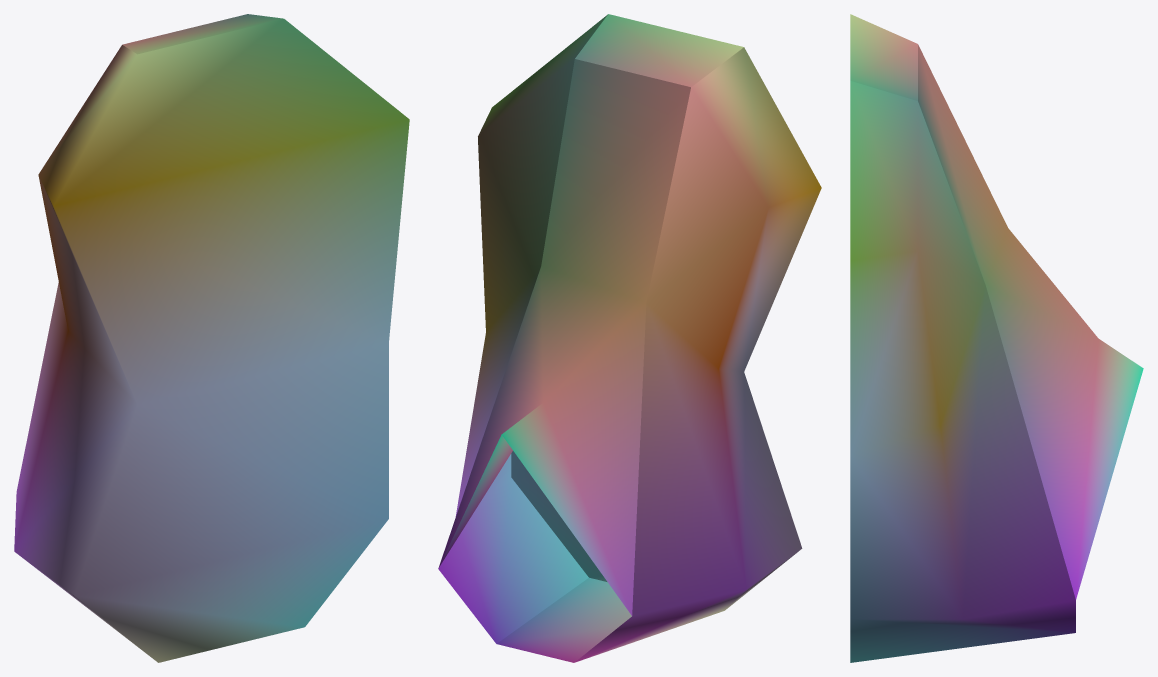
The picture shows the model from 3 angles, left to right: view 1: azimuth 30°, elevation 25°; view 2: azimuth 150°, elevation 25°; view 3: azimuth 270°, elevation 25°; orthographic projection. The views are drawn at different scales.
Parts seen in each view (by area): view 1: part; view 2: part; view 3: part.
Boxes of the visible parts, x1,y1,x2,y2 form: part: [14, 14, 409, 662]; part: [438, 14, 821, 662]; part: [850, 14, 1143, 662].
Size of the model in its own units: 17 by 28 by 13.
